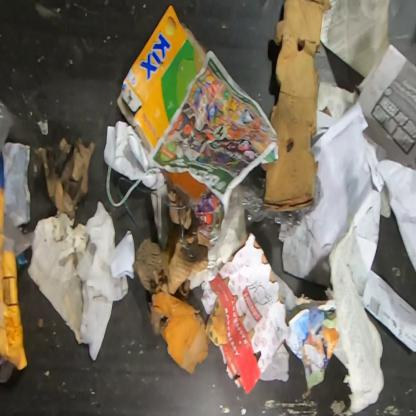cardboard: (200, 230, 290, 398), (264, 0, 332, 210), (115, 6, 205, 157), (133, 170, 210, 302), (148, 291, 228, 375), (30, 136, 99, 221), (0, 182, 27, 375)
rigid_plastic: (231, 173, 325, 227), (0, 104, 17, 151)
